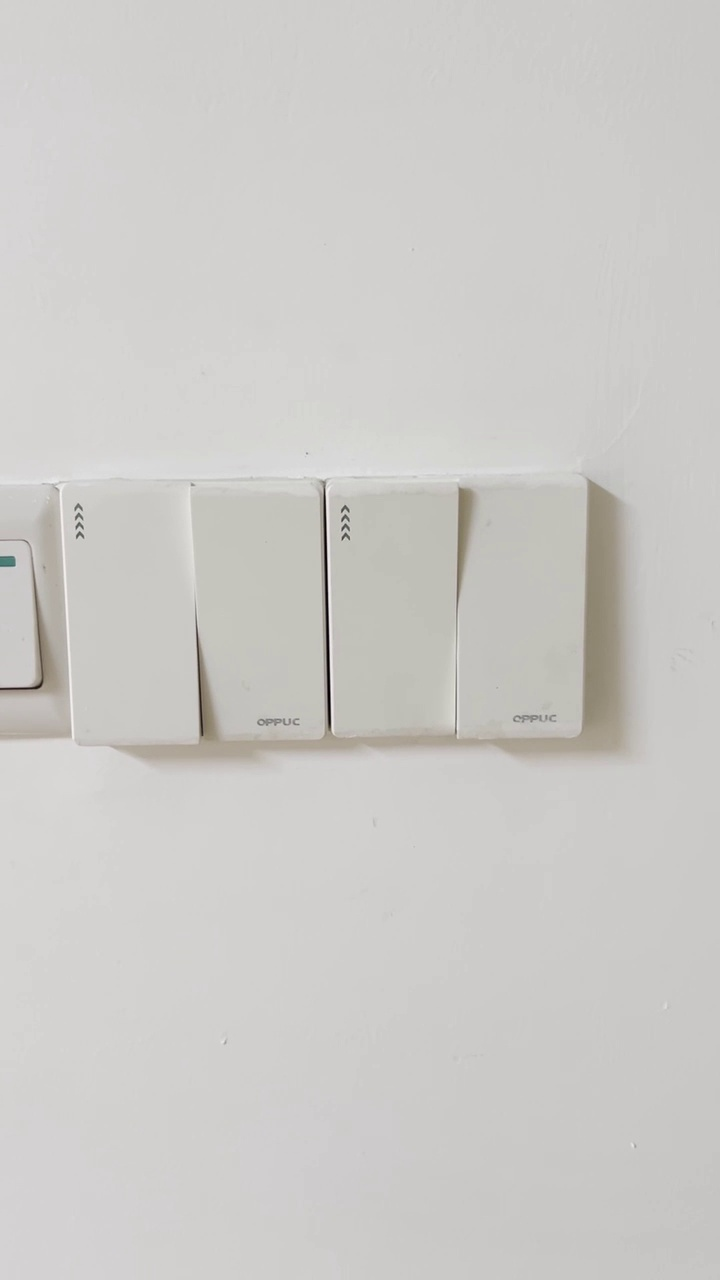button1: (60, 482, 199, 748), (196, 486, 326, 739), (461, 487, 579, 732), (336, 492, 454, 732)
